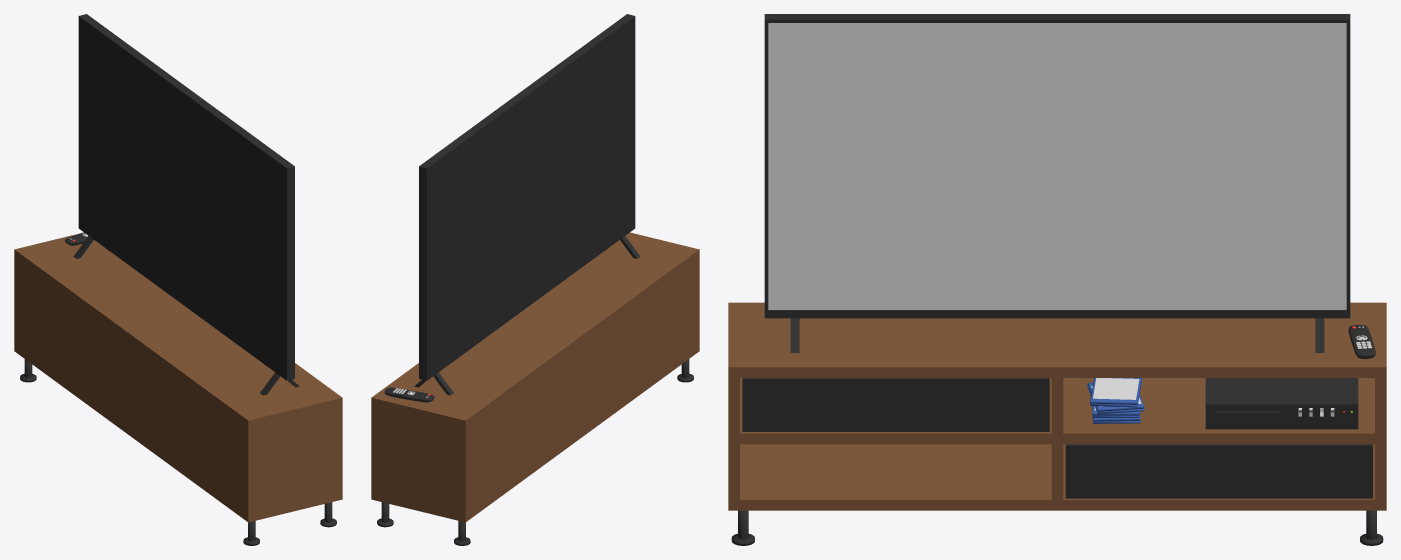
3 views of the same model, side by side, from view 1: azimuth 30°, elevation 25°; view 2: azimuth 150°, elevation 25°; view 3: azimuth 270°, elevation 25° (orthographic). The views are drawn at different scales.
Visible parts, largest first — view 1: TV; view 2: TV; view 3: TV.
Part boxes in pixels (x1=…): TV: x1=14, y1=14, x2=342, y2=545; TV: x1=371, y1=14, x2=699, y2=545; TV: x1=728, y1=14, x2=1386, y2=545.
Size of the model in its own units: 400 by 93.09 by 338.
